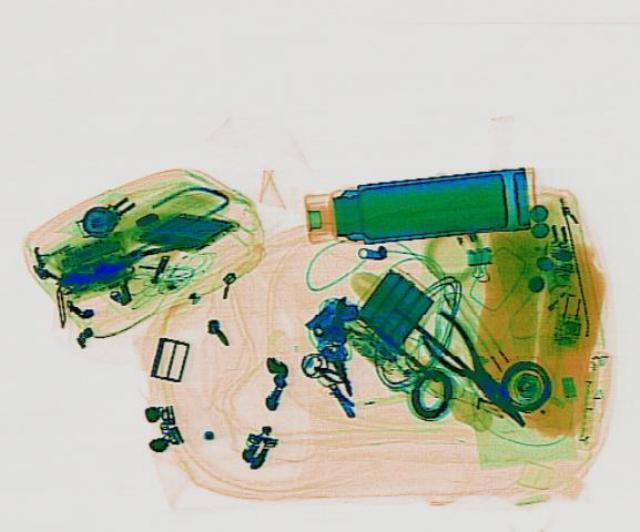Pliers: (405, 307, 545, 432)
